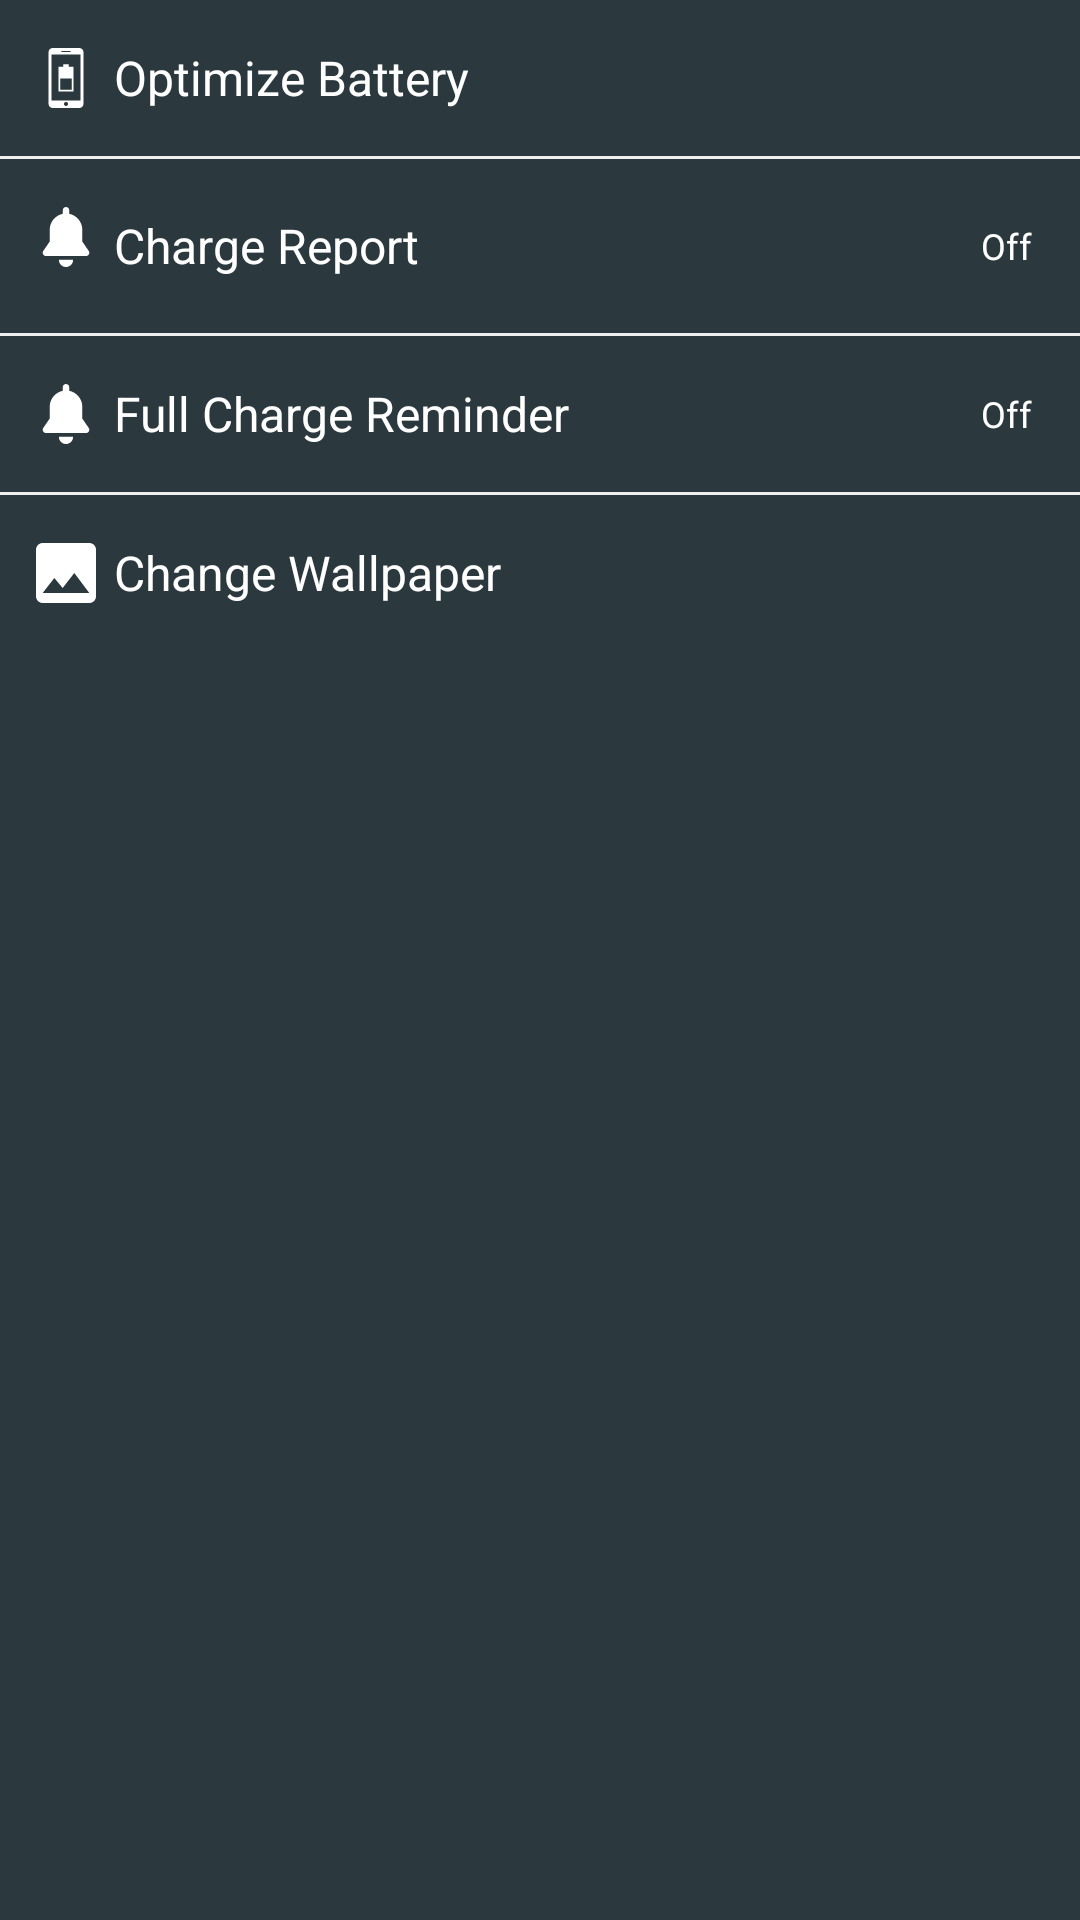

Screen size 1080px x 1920px. Icon name, then its box in pixels as (x1, y1, x2, y2):
bell: (42, 207, 90, 267), (42, 384, 90, 444)
telephone battery half charged: (48, 48, 84, 108)
